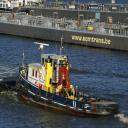tugboat: (20, 52, 122, 121)
